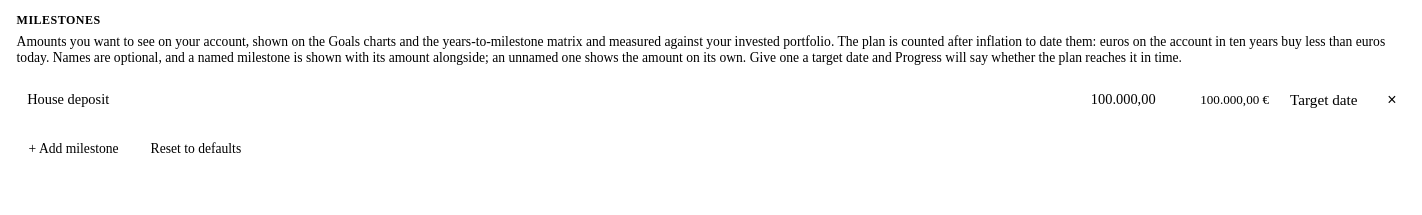
Test: MilestonesSetting › still addresses the row after a failed amount save, and says the save failed
Replace the text in the field named "Milestone amount" with "250000" at (1136, 100), box [1080,82,1192,117]
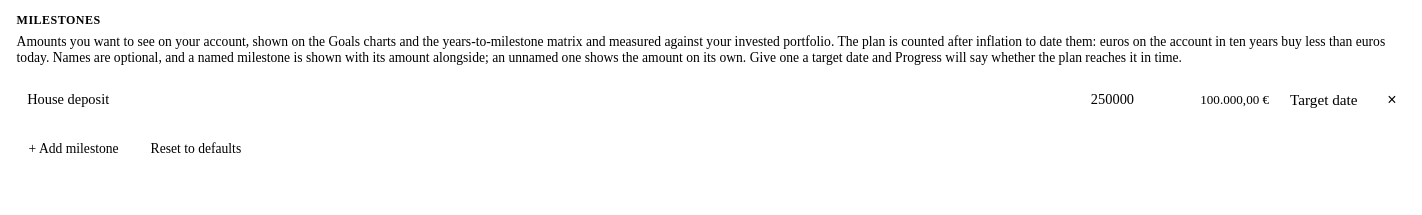
Leave the field named "Milestone amount", box [1080,82,1192,117]
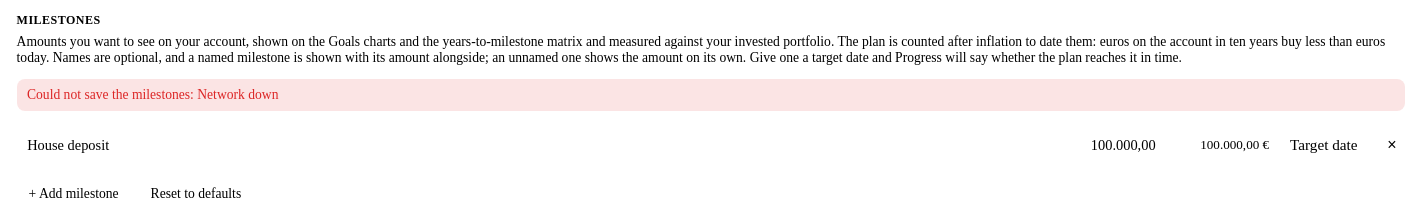
Check: the message shows "Network down", box [197,87,278,102]
Check: the field named "Milestone amount" holds "100.000,00", box [1080,128,1192,163]
The row shows what the server holds again, and the next edit addresses that.
Type "2028-06-01" into the date field named "Target date for milestone House deposit" at (1324, 145), box [1290,136,1358,153]
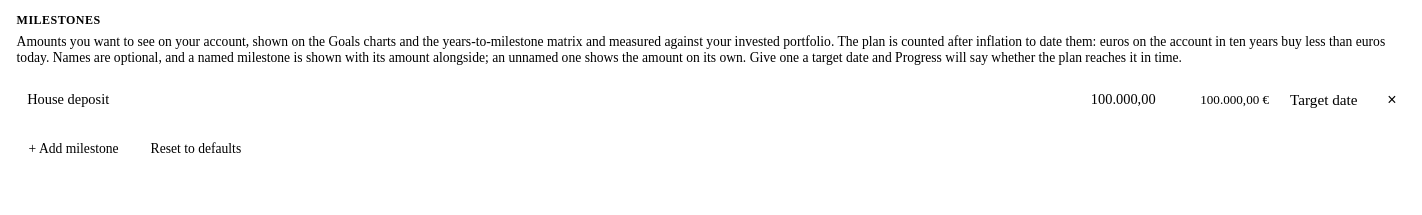
Check: the message "Could not save the milestones: Network down" is gone
